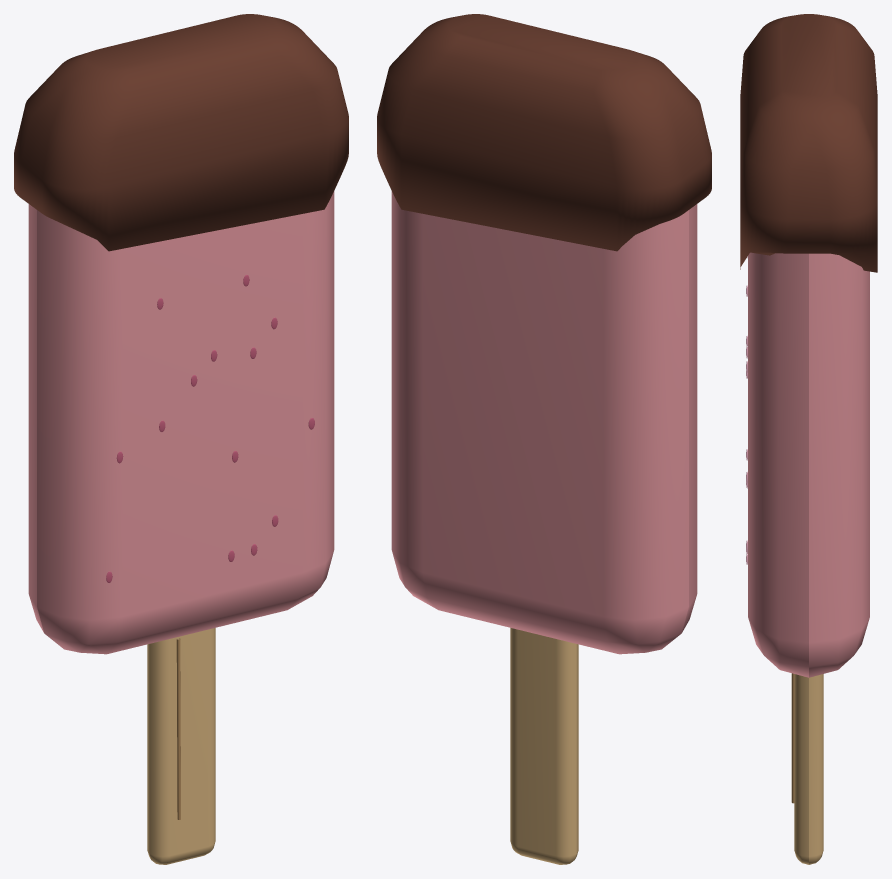
File: icecream_strawberry_chocolate.glb
3 views of the same model, side by side, from view 1: azimuth 30°, elevation 25°; view 2: azimuth 150°, elevation 25°; view 3: azimuth 270°, elevation 25° (orthographic). The views are drawn at different scales.
Parts seen in each view (by area): view 1: Frozen cream body, Continuous dipped chocolate, Thin wooden stick, Wood grain; view 2: Frozen cream body, Continuous dipped chocolate, Thin wooden stick; view 3: Frozen cream body, Continuous dipped chocolate, Thin wooden stick, Wood grain.
Boxes of the visible parts, x1=… form: Frozen cream body: x1=28, y1=191, x2=334, y2=654; Continuous dipped chocolate: x1=14, y1=14, x2=348, y2=251; Thin wooden stick: x1=147, y1=628, x2=215, y2=864; Wood grain: x1=176, y1=638, x2=180, y2=819; Frozen cream body: x1=391, y1=191, x2=697, y2=654; Continuous dipped chocolate: x1=377, y1=14, x2=711, y2=251; Thin wooden stick: x1=510, y1=628, x2=578, y2=864; Frozen cream body: x1=748, y1=252, x2=869, y2=677; Continuous dipped chocolate: x1=740, y1=14, x2=877, y2=272; Thin wooden stick: x1=794, y1=674, x2=823, y2=864; Wood grain: x1=791, y1=673, x2=794, y2=803.
Size of the model in its own units: 0.748 by 1.95 by 0.304.
